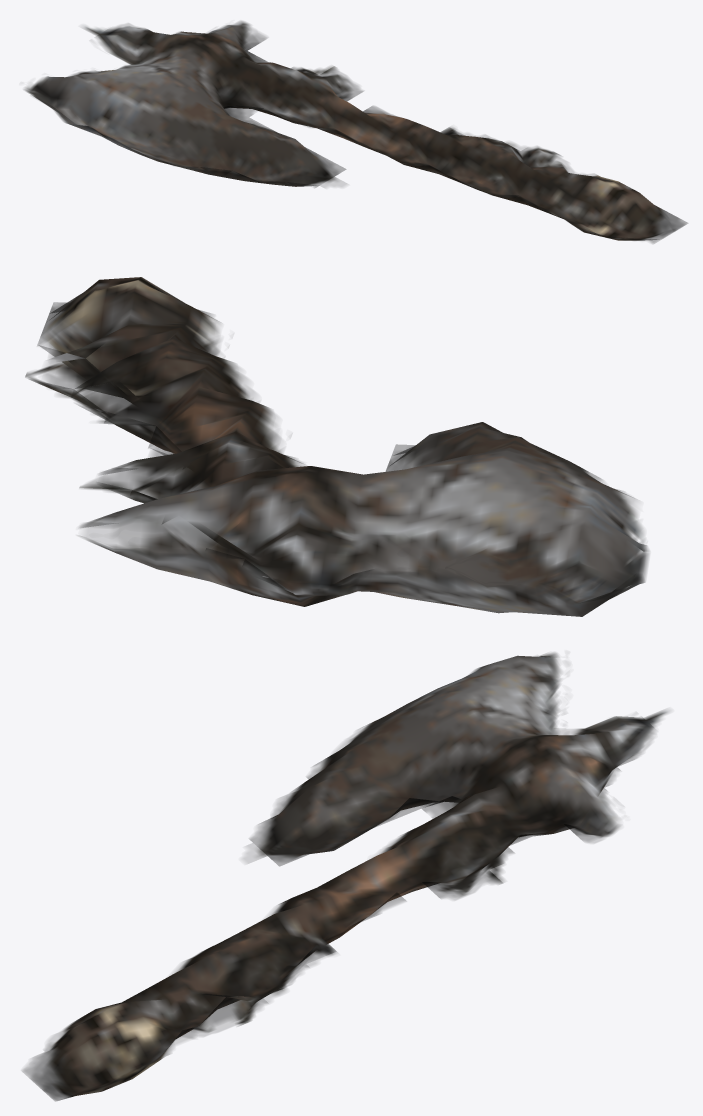
File: drop_axe.glb
3 renders of one model, top to bottom at view 1: azimuth 30°, elevation 25°; view 2: azimuth 150°, elevation 25°; view 3: azimuth 270°, elevation 25°, orthographic. The views are drawn at different scales.
Parts seen in each view (by area): view 1: drop_axe; view 2: drop_axe; view 3: drop_axe.
Part boxes in pixels (box(x1,y1,x2,y2)): drop_axe: box(24, 21, 687, 243); drop_axe: box(25, 277, 648, 616); drop_axe: box(22, 652, 670, 1101).
Bounding box in the file's own units: 0.504 × 0.1369 × 0.4583.
1 material, 1 textured.
